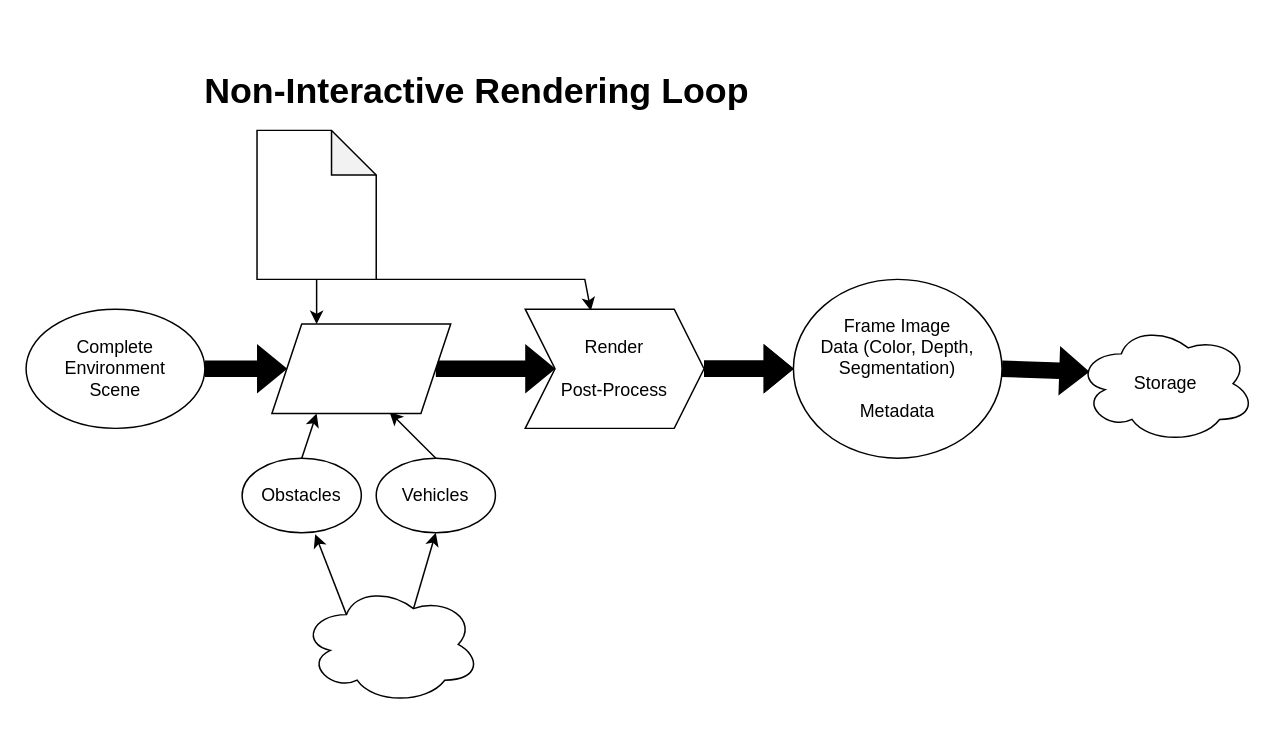
Some shapes in this 1281 by 730 pixel diagram are drawn without their labels. Here are the shapes that lost their labels. From the top down, the box of each, then its label:
(256, 129, 376, 279): Experiment Scene Parameters
(270, 323, 451, 413): Frame Setup Logic
(300, 583, 481, 704): 3D Model Library
